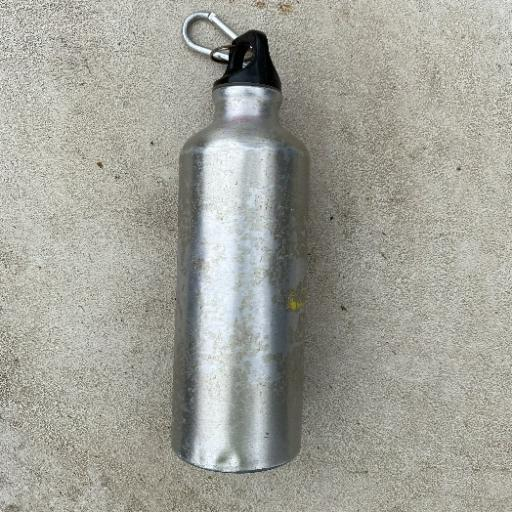Metal: (168, 13, 313, 474)
